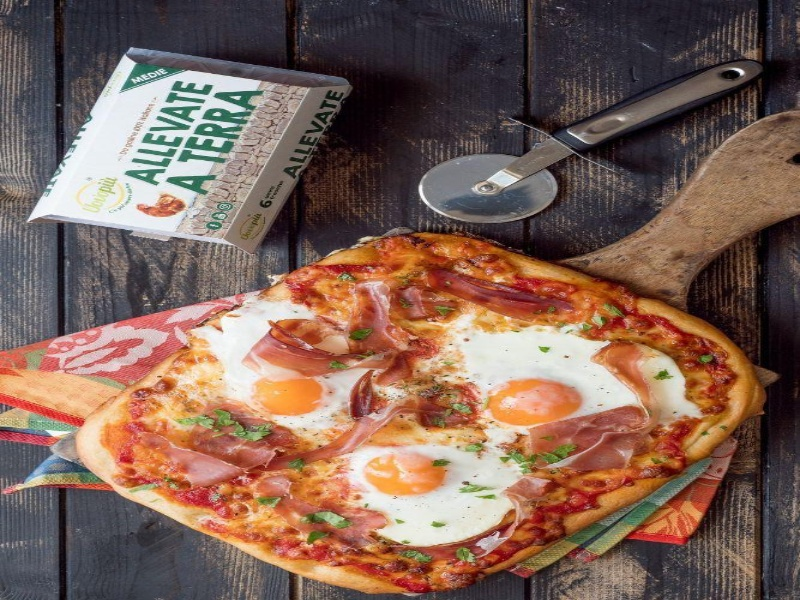oeuf: (467, 359, 595, 430), (353, 452, 462, 510), (248, 373, 344, 427)
